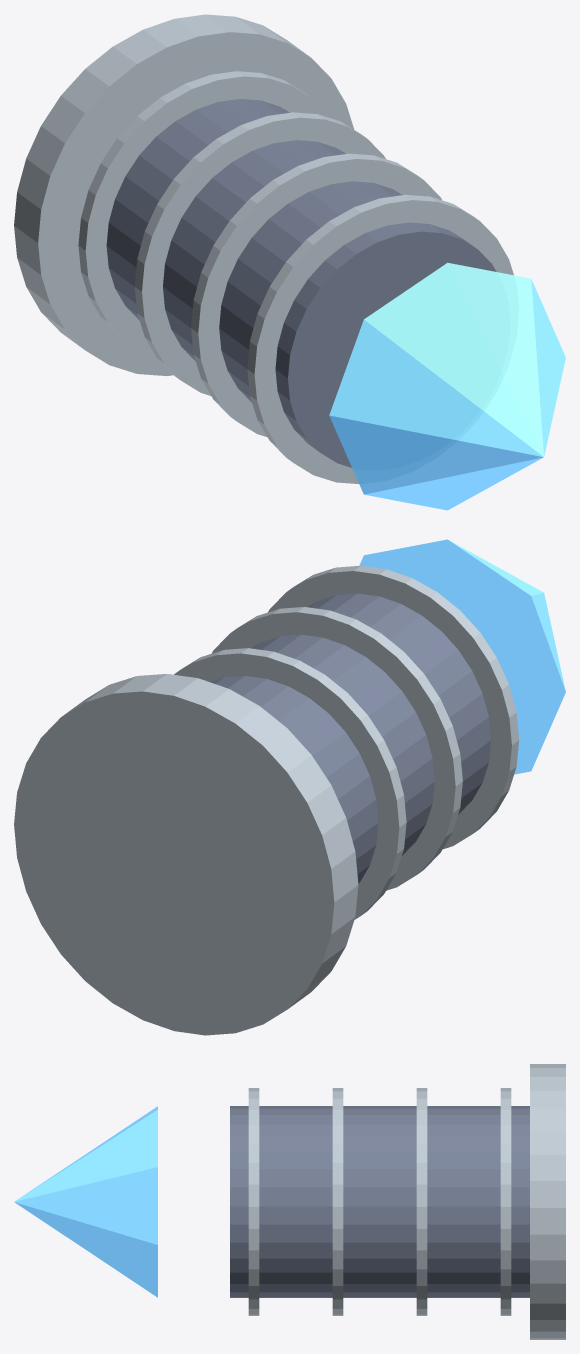
The model's file is 02_Cloud_City_Sky_Pillar.glb.
The picture shows the model from 3 angles, top to bottom: view 1: azimuth 30°, elevation 25°; view 2: azimuth 150°, elevation 25°; view 3: azimuth 270°, elevation 25°; orthographic projection. The views are drawn at different scales.
Visible parts, largest first — view 1: 02_Cloud_City_Sky_Pillar_01, 02_Cloud_City_Sky_Pillar_06, 02_Cloud_City_Sky_Pillar_00, 02_Cloud_City_Sky_Pillar_05, 02_Cloud_City_Sky_Pillar_02, 02_Cloud_City_Sky_Pillar_03, 02_Cloud_City_Sky_Pillar_04; view 2: 02_Cloud_City_Sky_Pillar_00, 02_Cloud_City_Sky_Pillar_01, 02_Cloud_City_Sky_Pillar_06, 02_Cloud_City_Sky_Pillar_04, 02_Cloud_City_Sky_Pillar_05, 02_Cloud_City_Sky_Pillar_03; view 3: 02_Cloud_City_Sky_Pillar_01, 02_Cloud_City_Sky_Pillar_06, 02_Cloud_City_Sky_Pillar_00, 02_Cloud_City_Sky_Pillar_02, 02_Cloud_City_Sky_Pillar_03, 02_Cloud_City_Sky_Pillar_04, 02_Cloud_City_Sky_Pillar_05.
Boxes of the visible parts, x1,y1,x2,y2 form: 02_Cloud_City_Sky_Pillar_01: [106, 99, 496, 467]; 02_Cloud_City_Sky_Pillar_06: [329, 262, 565, 510]; 02_Cloud_City_Sky_Pillar_00: [14, 14, 354, 375]; 02_Cloud_City_Sky_Pillar_05: [247, 194, 513, 483]; 02_Cloud_City_Sky_Pillar_02: [78, 71, 329, 354]; 02_Cloud_City_Sky_Pillar_03: [134, 112, 385, 395]; 02_Cloud_City_Sky_Pillar_04: [191, 153, 441, 437]; 02_Cloud_City_Sky_Pillar_00: [14, 674, 358, 1035]; 02_Cloud_City_Sky_Pillar_01: [210, 593, 490, 883]; 02_Cloud_City_Sky_Pillar_06: [359, 539, 565, 774]; 02_Cloud_City_Sky_Pillar_04: [211, 607, 462, 890]; 02_Cloud_City_Sky_Pillar_05: [268, 565, 519, 849]; 02_Cloud_City_Sky_Pillar_03: [174, 648, 406, 919]; 02_Cloud_City_Sky_Pillar_01: [230, 1106, 529, 1297]; 02_Cloud_City_Sky_Pillar_06: [14, 1106, 157, 1297]; 02_Cloud_City_Sky_Pillar_00: [530, 1064, 565, 1339]; 02_Cloud_City_Sky_Pillar_02: [500, 1088, 511, 1315]; 02_Cloud_City_Sky_Pillar_03: [416, 1088, 427, 1315]; 02_Cloud_City_Sky_Pillar_04: [332, 1088, 343, 1315]; 02_Cloud_City_Sky_Pillar_05: [248, 1088, 259, 1315].
Size of the model in its own units: 4.6 by 4.6 by 9.2.
